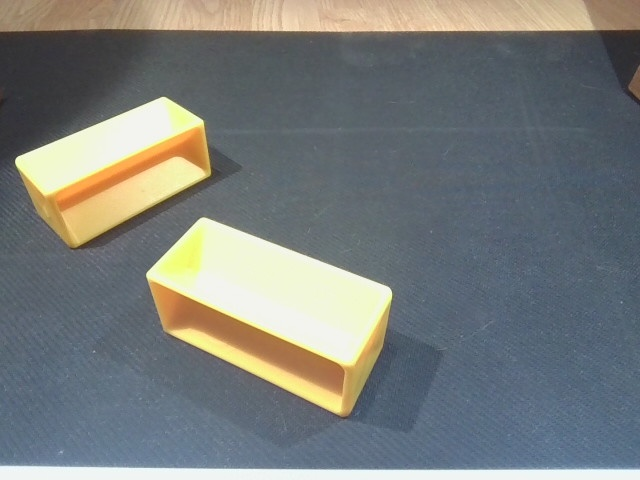YellowSample: (143, 214, 402, 420), (11, 93, 230, 252)
